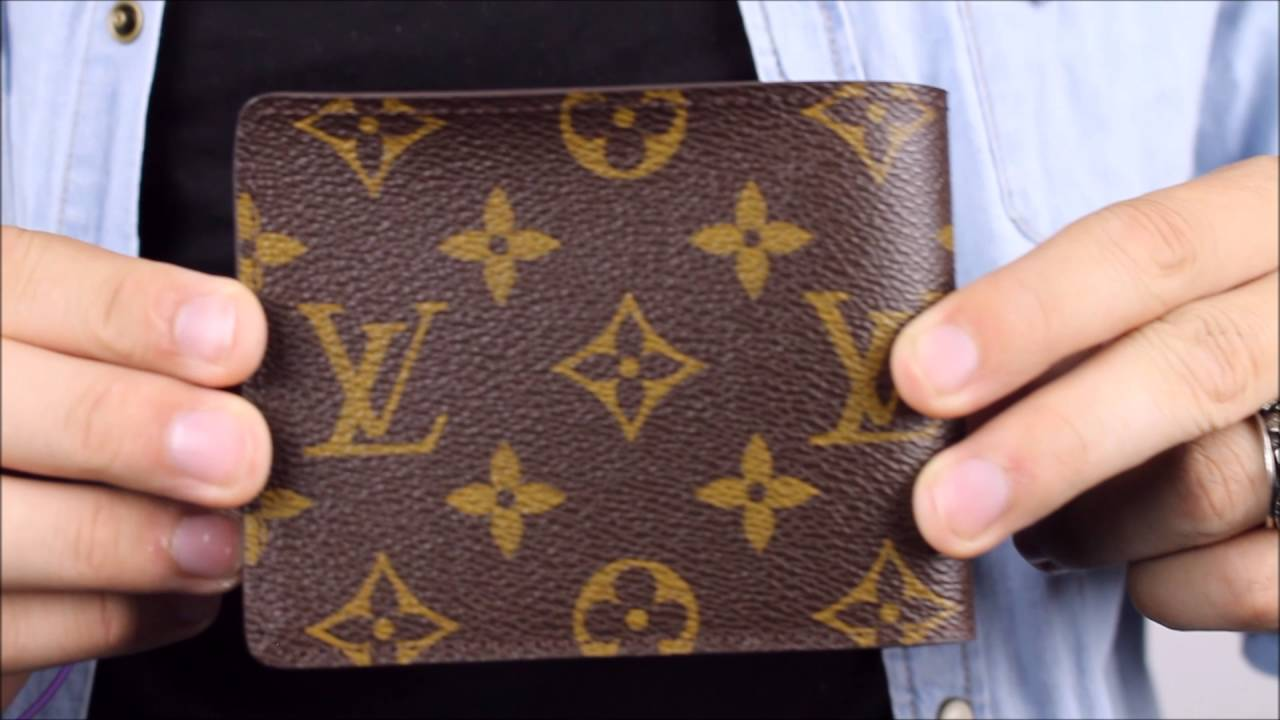monedero: (229, 76, 985, 672)
